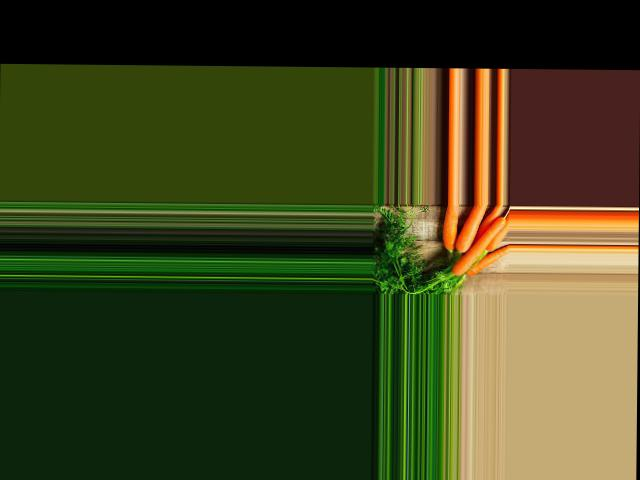carrot: (483, 217, 485, 252)
